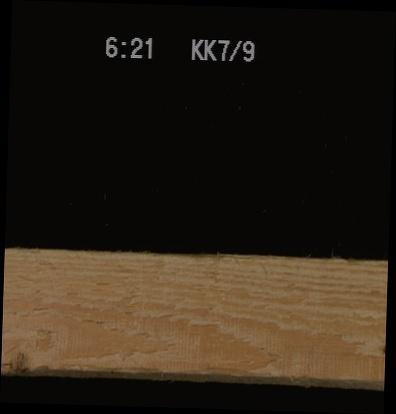edge_knot: (1, 347, 31, 374)
